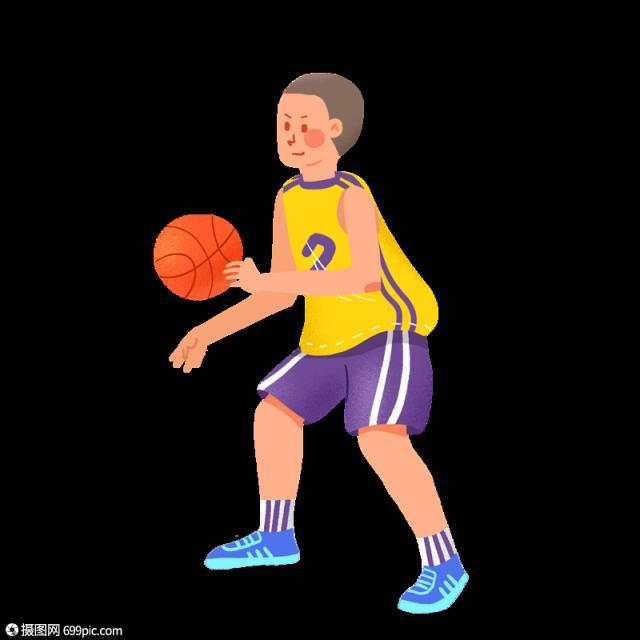rim: (158, 211, 242, 298)
